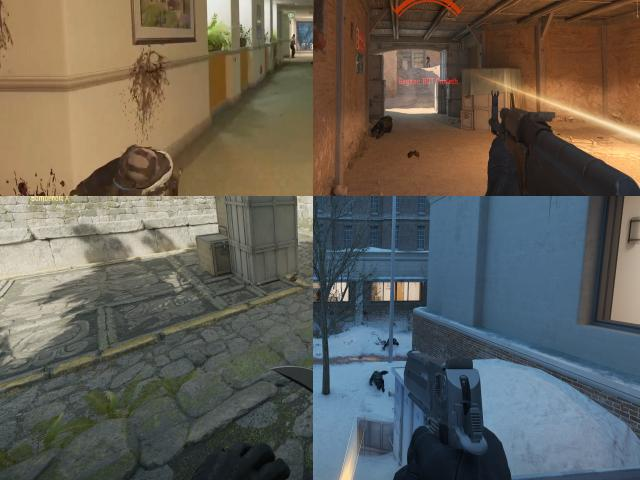Bomb: (286, 273, 301, 286)
CT: (426, 54, 431, 67), (317, 289, 321, 301)
CT-Head: (318, 289, 320, 292), (427, 55, 428, 57)
Dead: (22, 145, 201, 196), (372, 116, 393, 135), (368, 368, 385, 390), (383, 335, 399, 350)
T: (288, 32, 299, 58), (290, 33, 296, 40)
